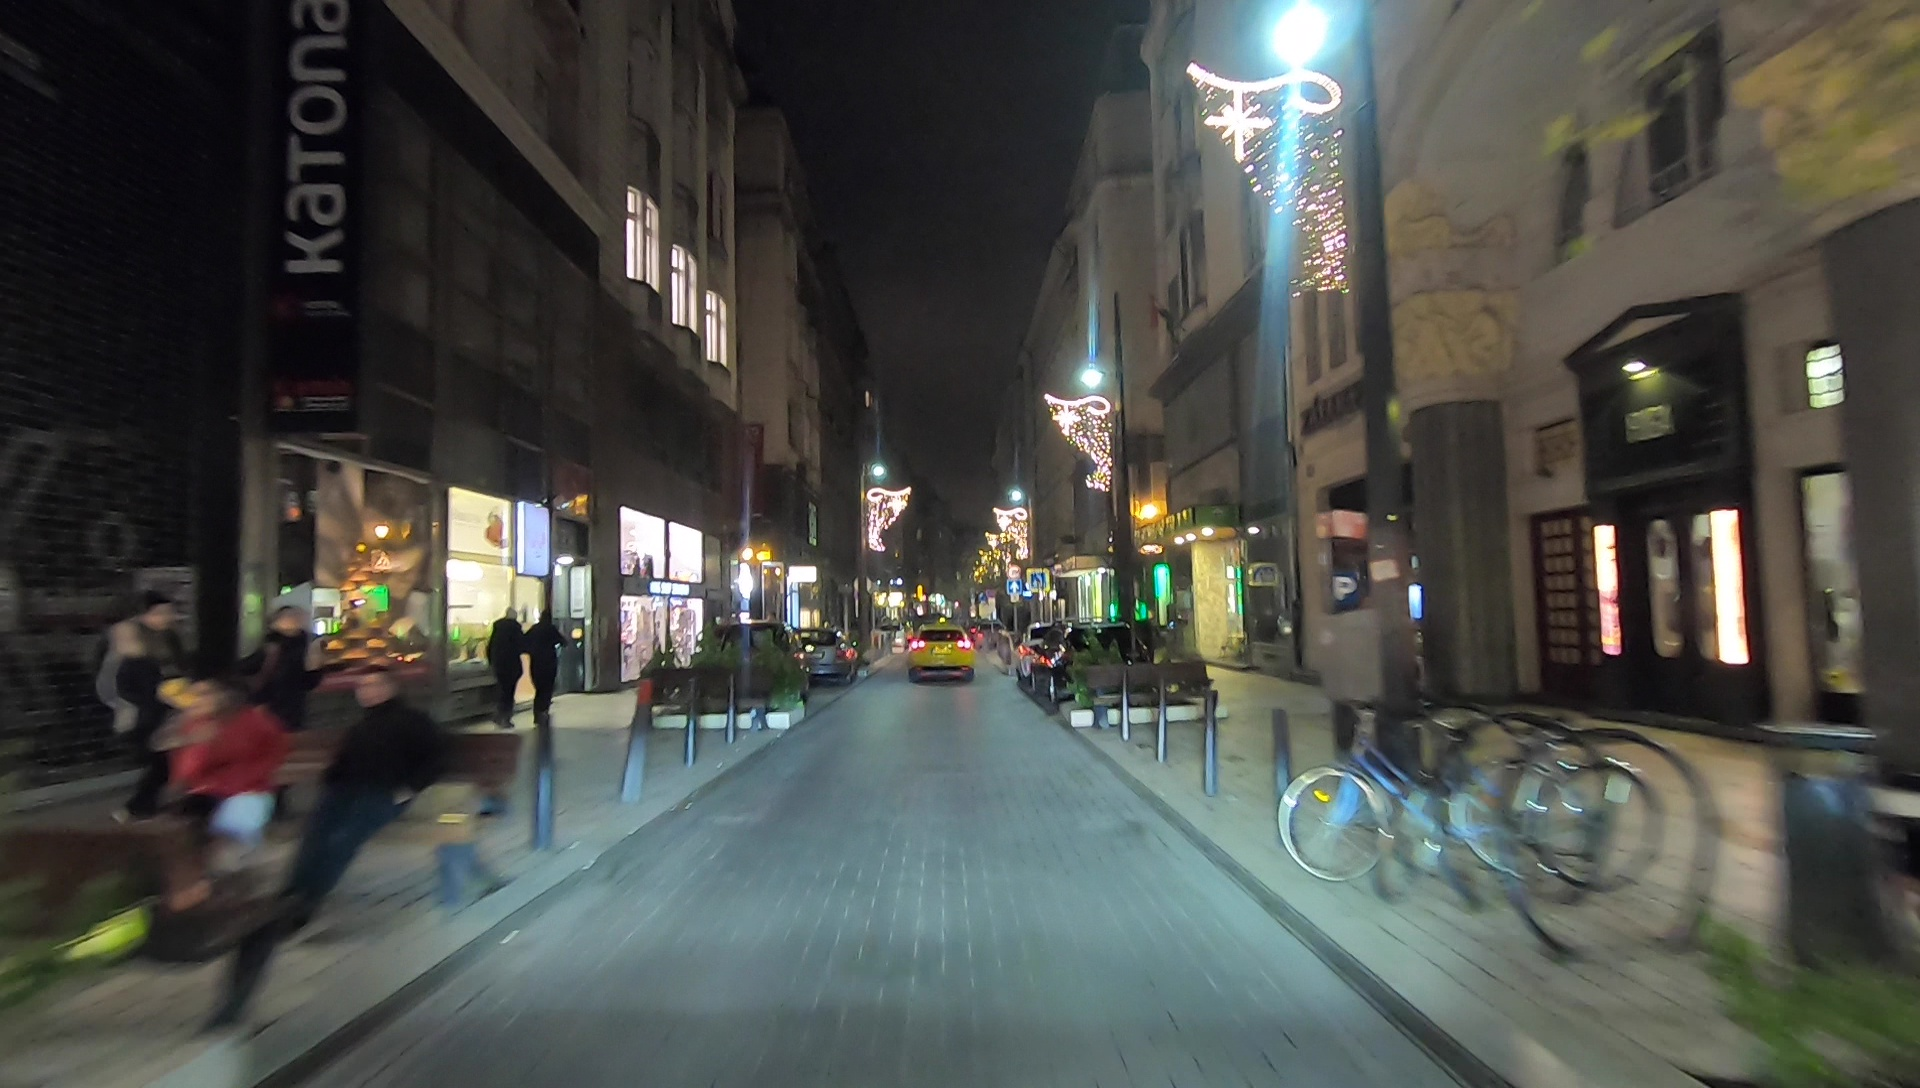person: (106, 595, 178, 824), (254, 606, 319, 830), (484, 610, 523, 728), (525, 613, 560, 730)
